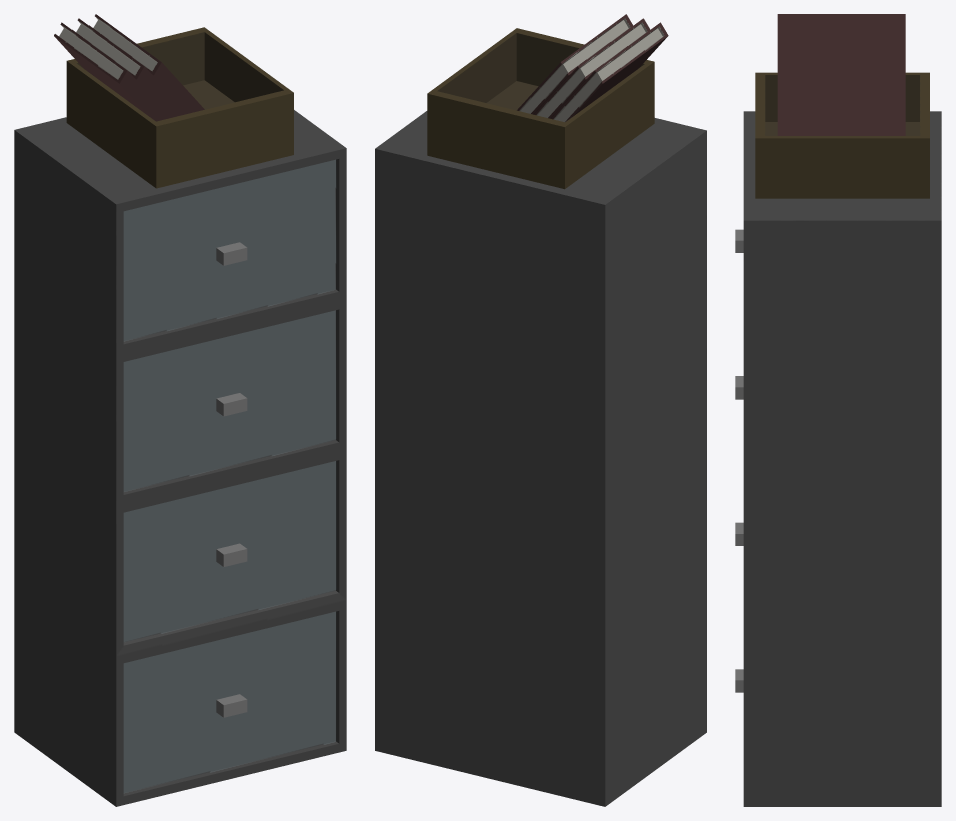
File: wide locker.fbx
3 renders of one model, left to right at view 1: azimuth 30°, elevation 25°; view 2: azimuth 150°, elevation 25°; view 3: azimuth 270°, elevation 25°, orthographic. The views are drawn at different scales.
Visible parts, largest first — view 1: polySurface120, polySurface119, polySurface118, polySurface114, polySurface112, polySurface117; view 2: polySurface120, polySurface119, polySurface118, polySurface112, polySurface117; view 3: polySurface120, polySurface119, polySurface112, polySurface117, polySurface118, polySurface114.
Boxes of the visible parts, left/top/right/bottom form: polySurface120: left=14, top=110, right=346, bottom=806; polySurface119: left=66, top=27, right=293, bottom=188; polySurface118: left=54, top=22, right=170, bottom=121; polySurface114: left=216, top=242, right=247, bottom=717; polySurface112: left=89, top=14, right=204, bottom=113; polySurface117: left=72, top=18, right=187, bottom=117; polySurface120: left=375, top=111, right=706, bottom=806; polySurface119: left=427, top=28, right=654, bottom=189; polySurface118: left=551, top=22, right=668, bottom=122; polySurface112: left=517, top=14, right=632, bottom=114; polySurface117: left=534, top=18, right=650, bottom=118; polySurface120: left=743, top=111, right=941, bottom=806; polySurface119: left=755, top=72, right=929, bottom=198; polySurface112: left=777, top=30, right=905, bottom=135; polySurface117: left=777, top=22, right=905, bottom=30; polySurface118: left=777, top=14, right=905, bottom=21; polySurface114: left=735, top=229, right=743, bottom=692.
Bounding box in the file's own units: 0.4746 × 1.41 × 0.378.
